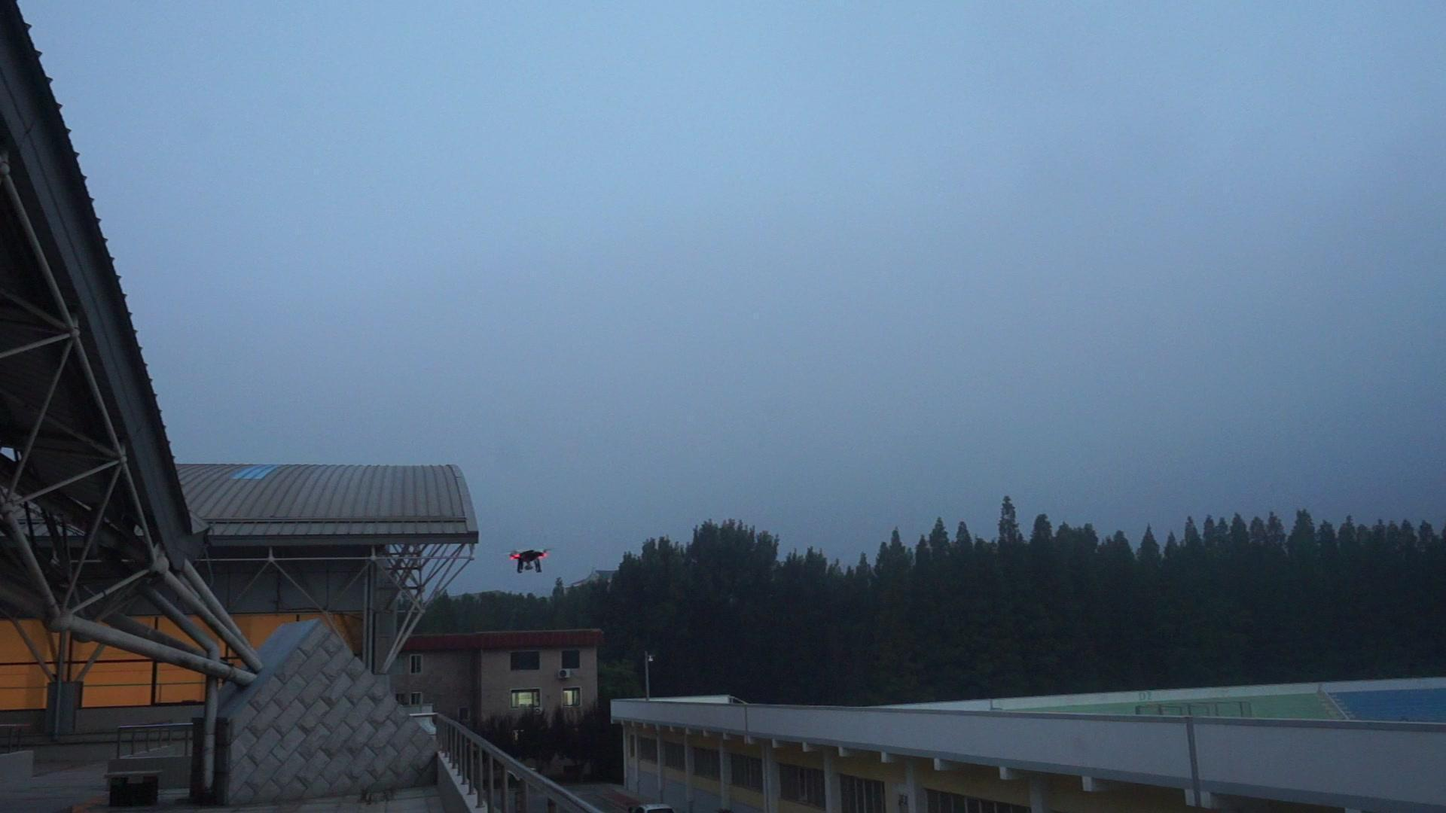UAV: (505, 550, 553, 574)
